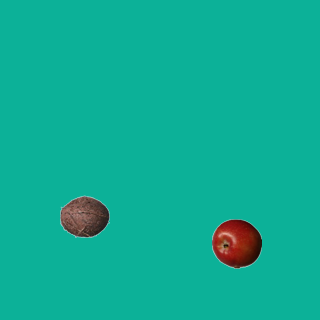Apple Braeburn: (211, 218, 261, 268)
Cocos: (59, 191, 109, 241)
